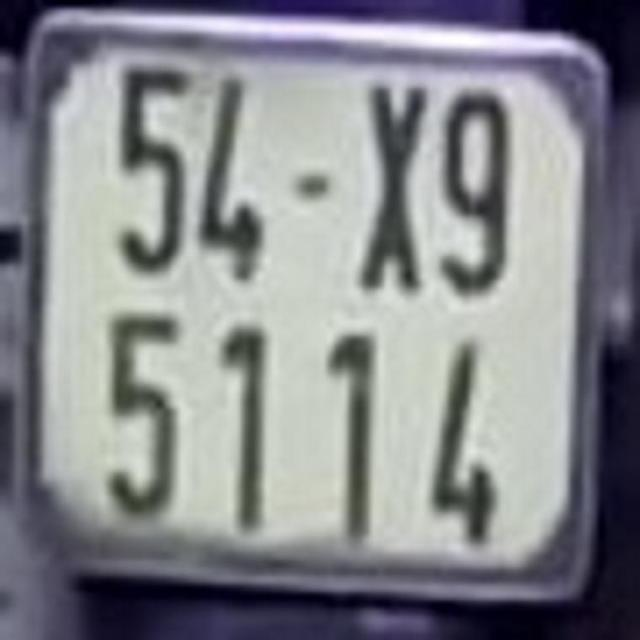1: (210, 306, 288, 542), (321, 311, 392, 552)
4: (427, 324, 509, 559), (195, 45, 269, 292)
5: (98, 296, 186, 524), (112, 59, 193, 280)
9: (444, 66, 512, 301)
X: (352, 64, 435, 303)
